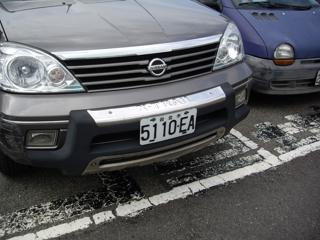plate: (139, 113, 198, 140)
